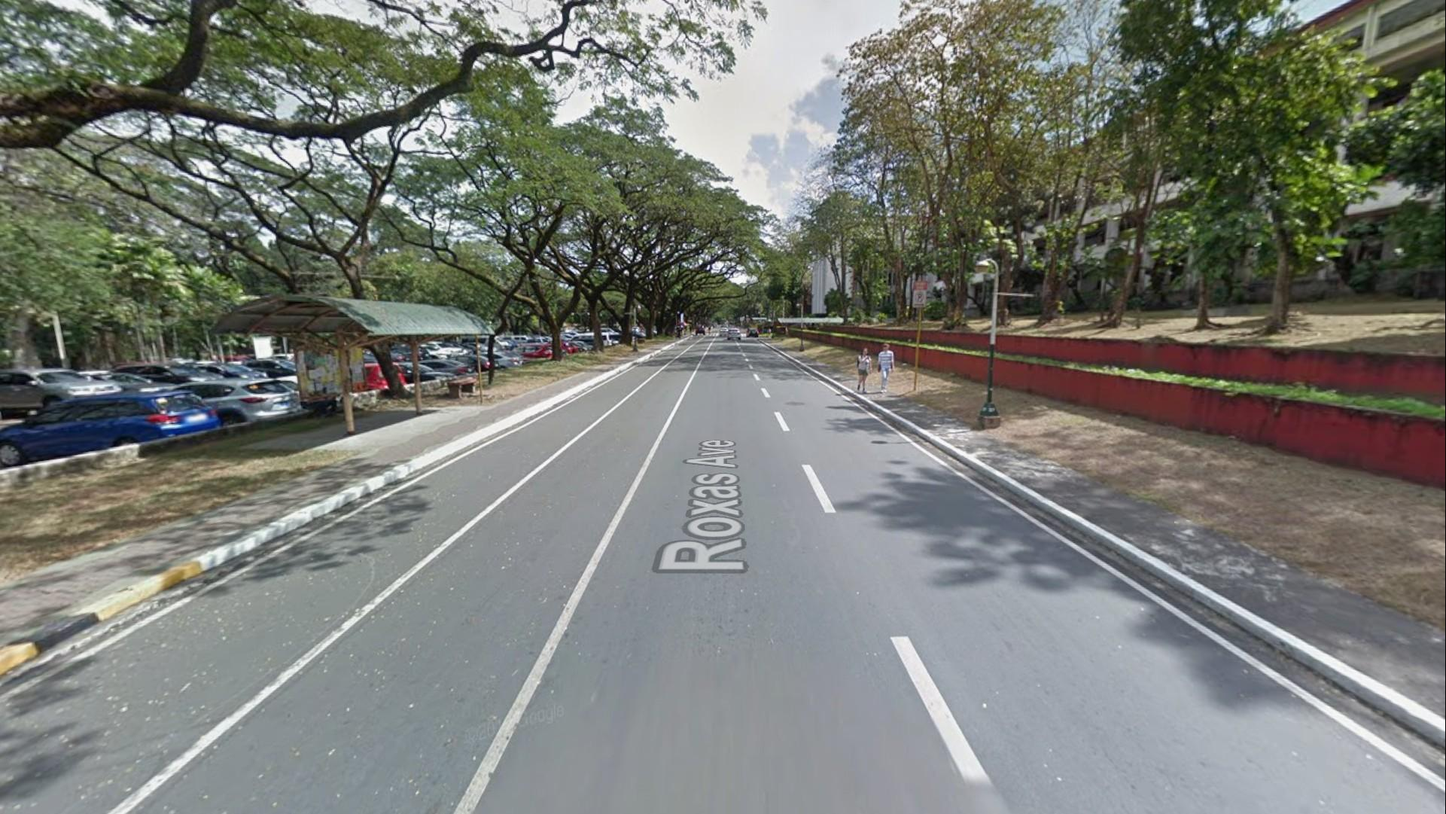pedestrian: (877, 343, 895, 393), (856, 346, 873, 394), (707, 323, 713, 336), (767, 327, 772, 339)
